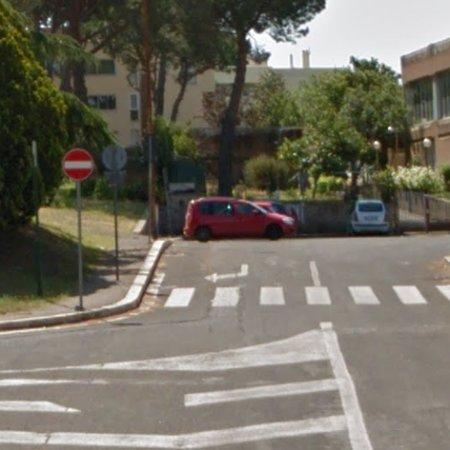crosswalks: (159, 282, 450, 311)
